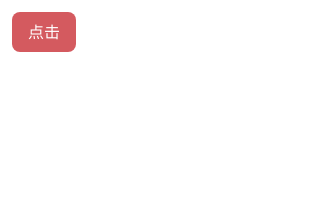
Test: Dropdown › 应该支持ESC键关闭
This screenshot has width=332, height=197.
Click the button "点击" at (44, 32), box [12, 12, 76, 52]
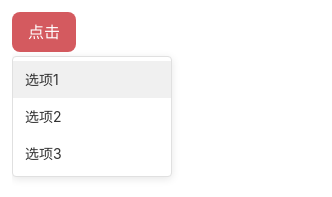
Expected: the text "选项1" is shown, [25, 69, 59, 90]
Press Escape in the button "点击", box [12, 12, 76, 52]
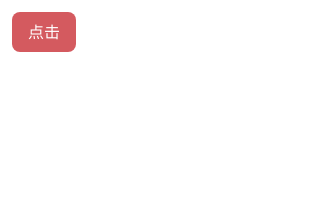
Expected: the menu item "选项1" is gone
